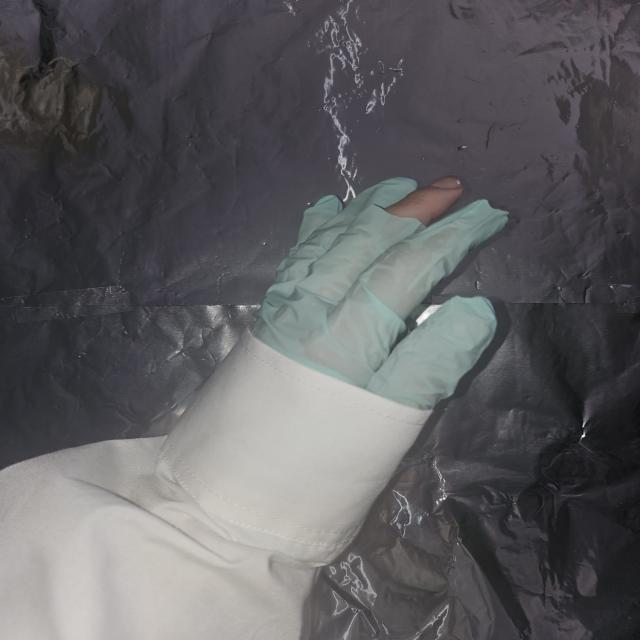gloves_damaged: (247, 173, 516, 413)
